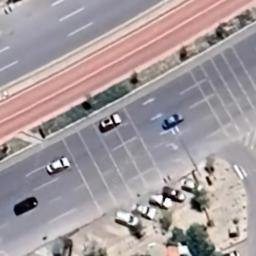SUV: (98, 110, 122, 136)
sedan: (44, 153, 74, 178), (8, 194, 40, 216), (162, 112, 186, 132)
